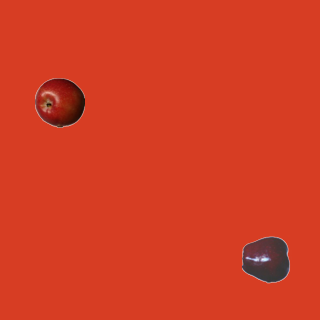Apple Braeburn: (34, 77, 84, 127)
Apple Red Delicious: (241, 234, 291, 284)
